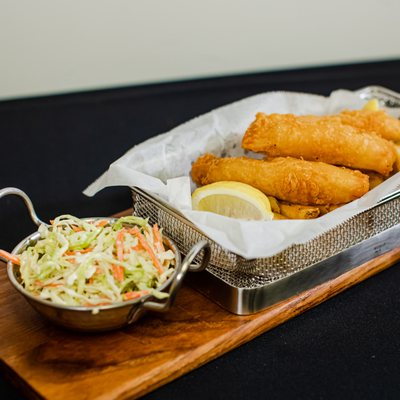soup: (190, 154, 370, 219)
sushi: (4, 214, 183, 333)
